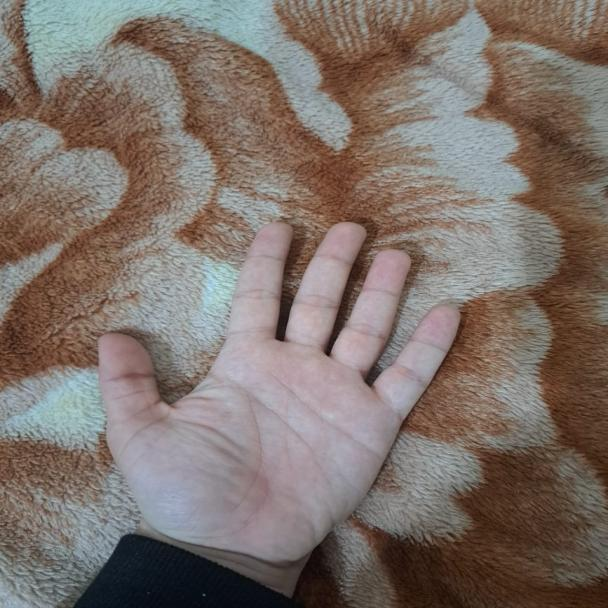five: (92, 216, 470, 561)
